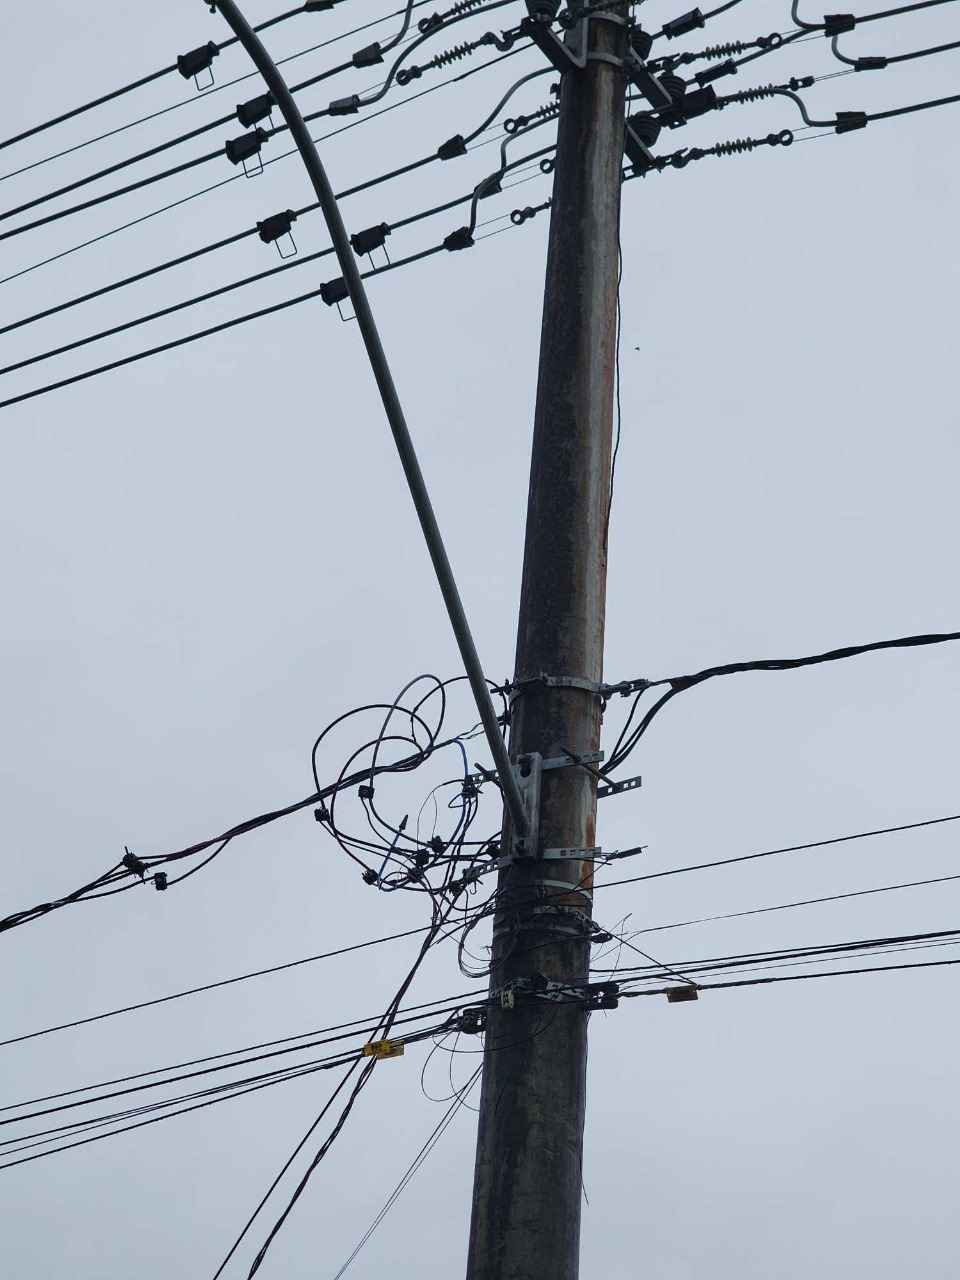poste: (472, 10, 652, 1280)
